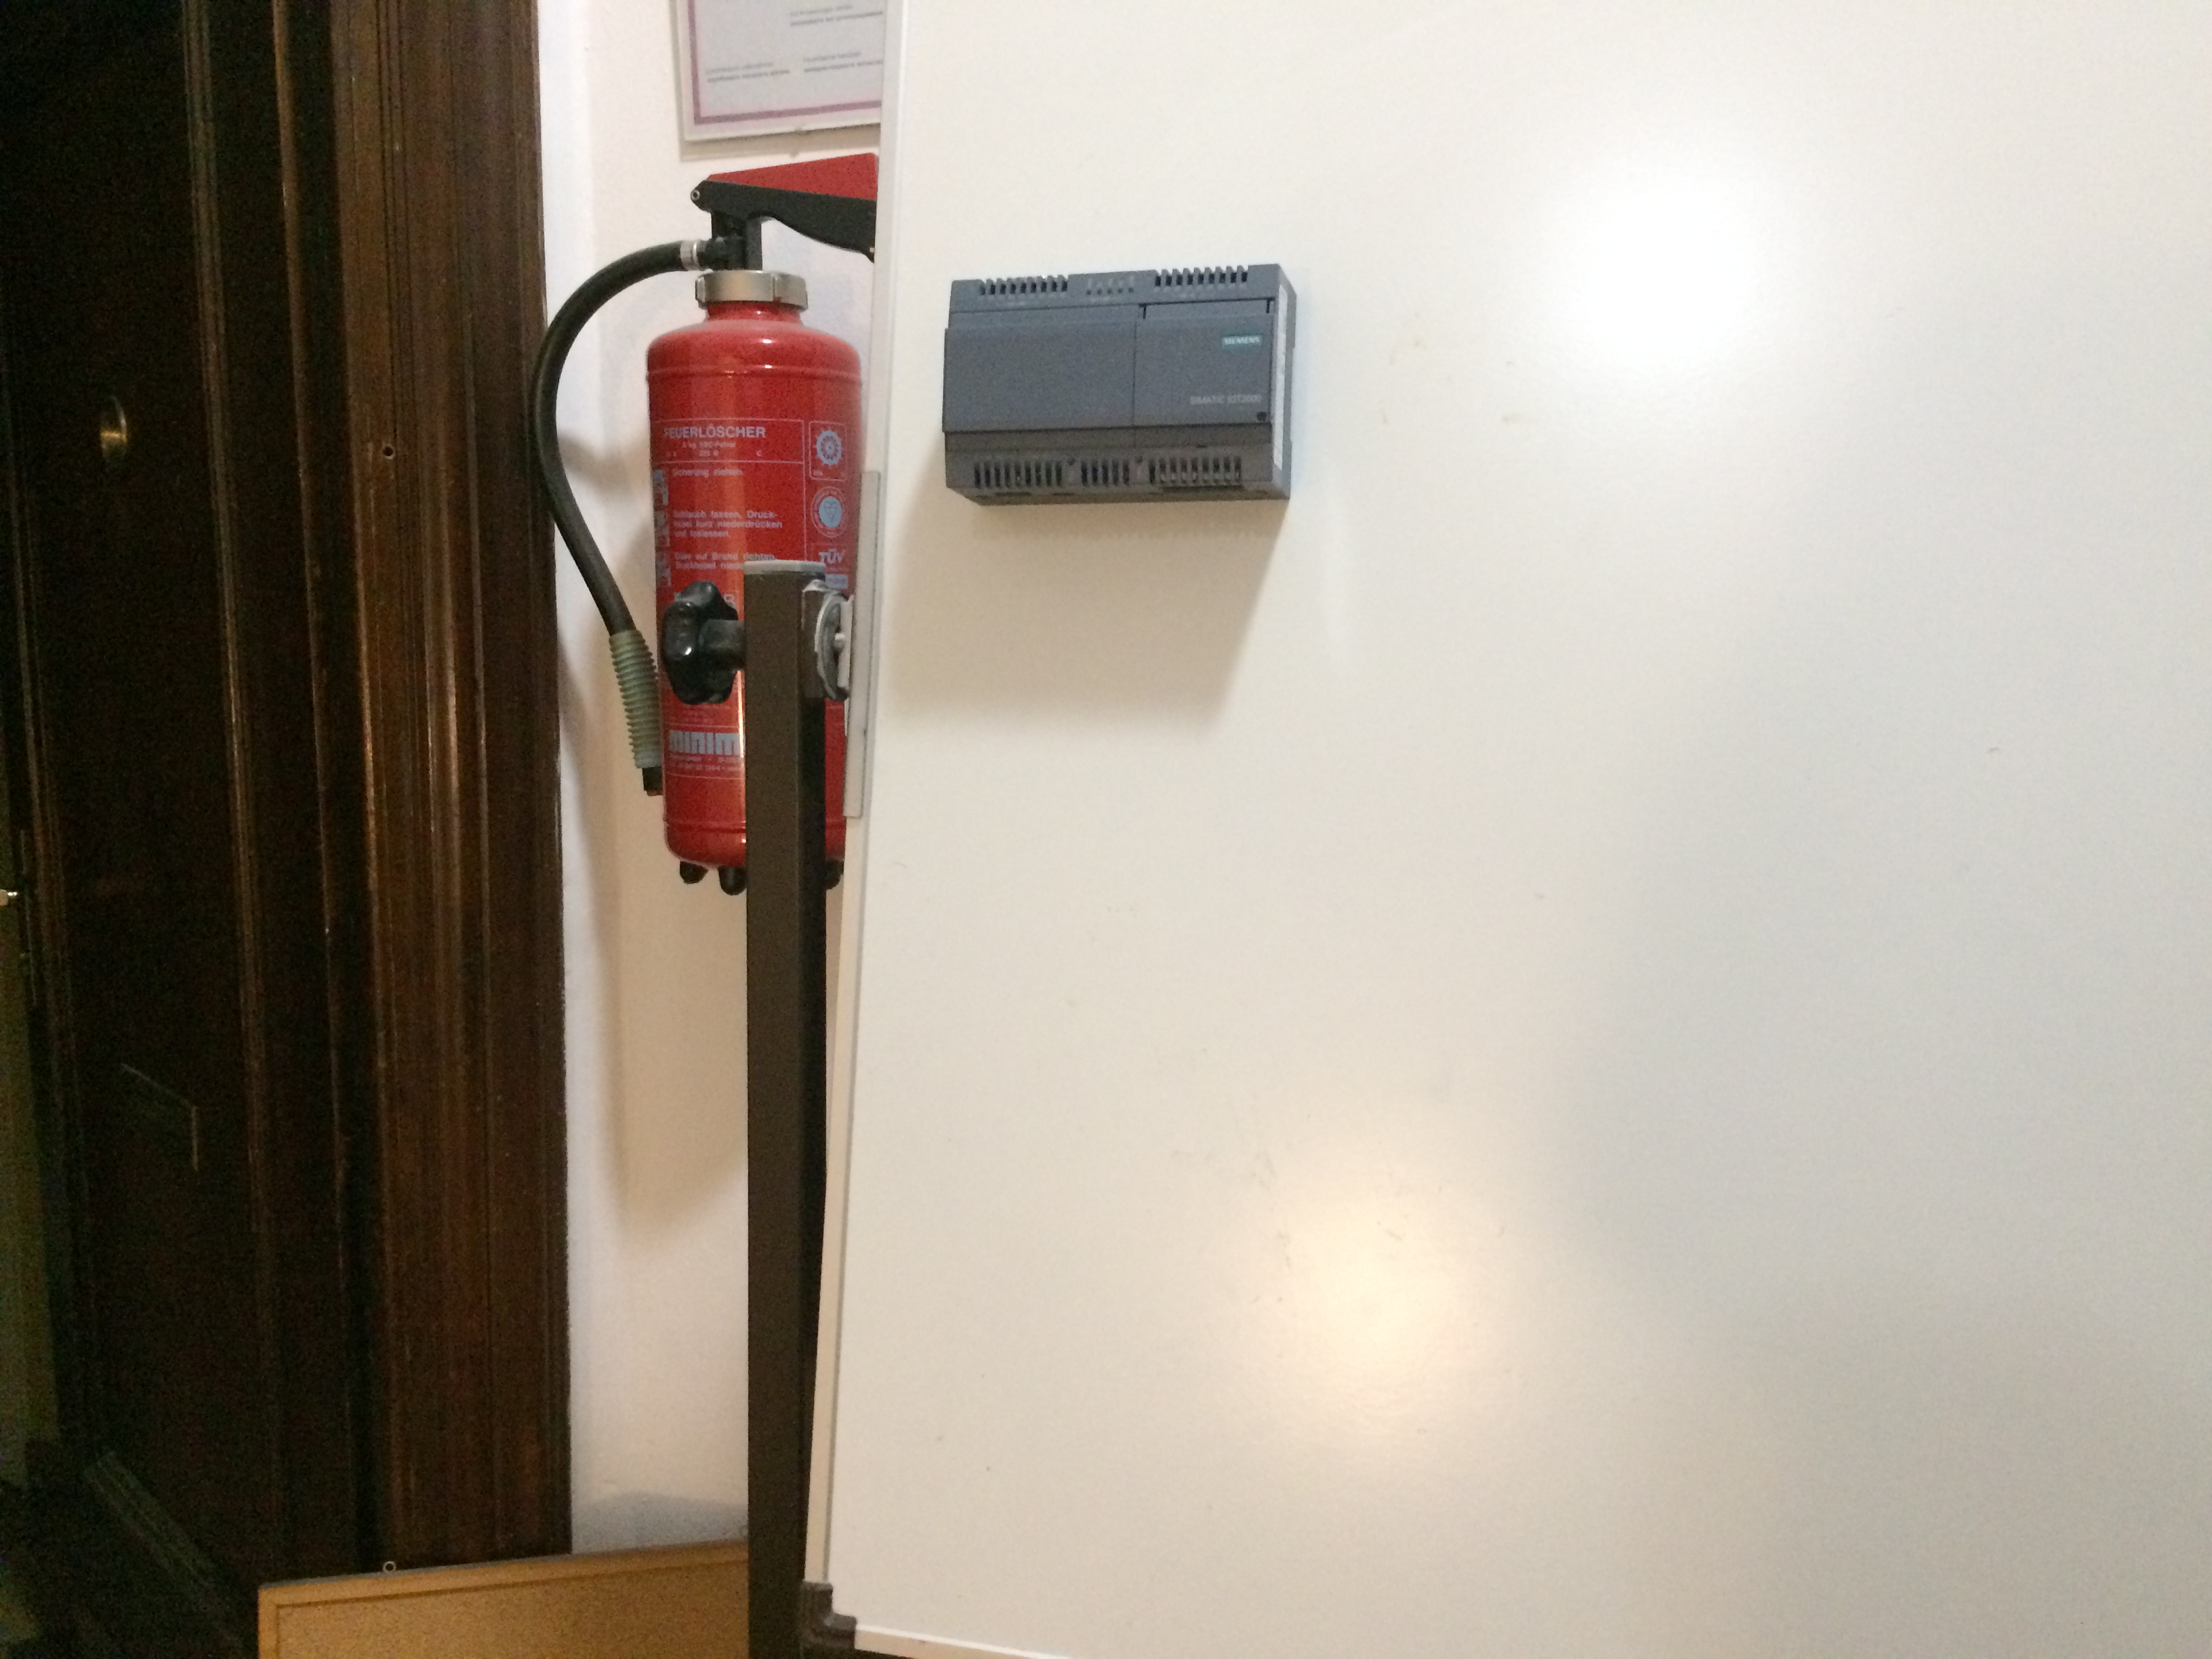iot2000: (939, 261, 1301, 511)
